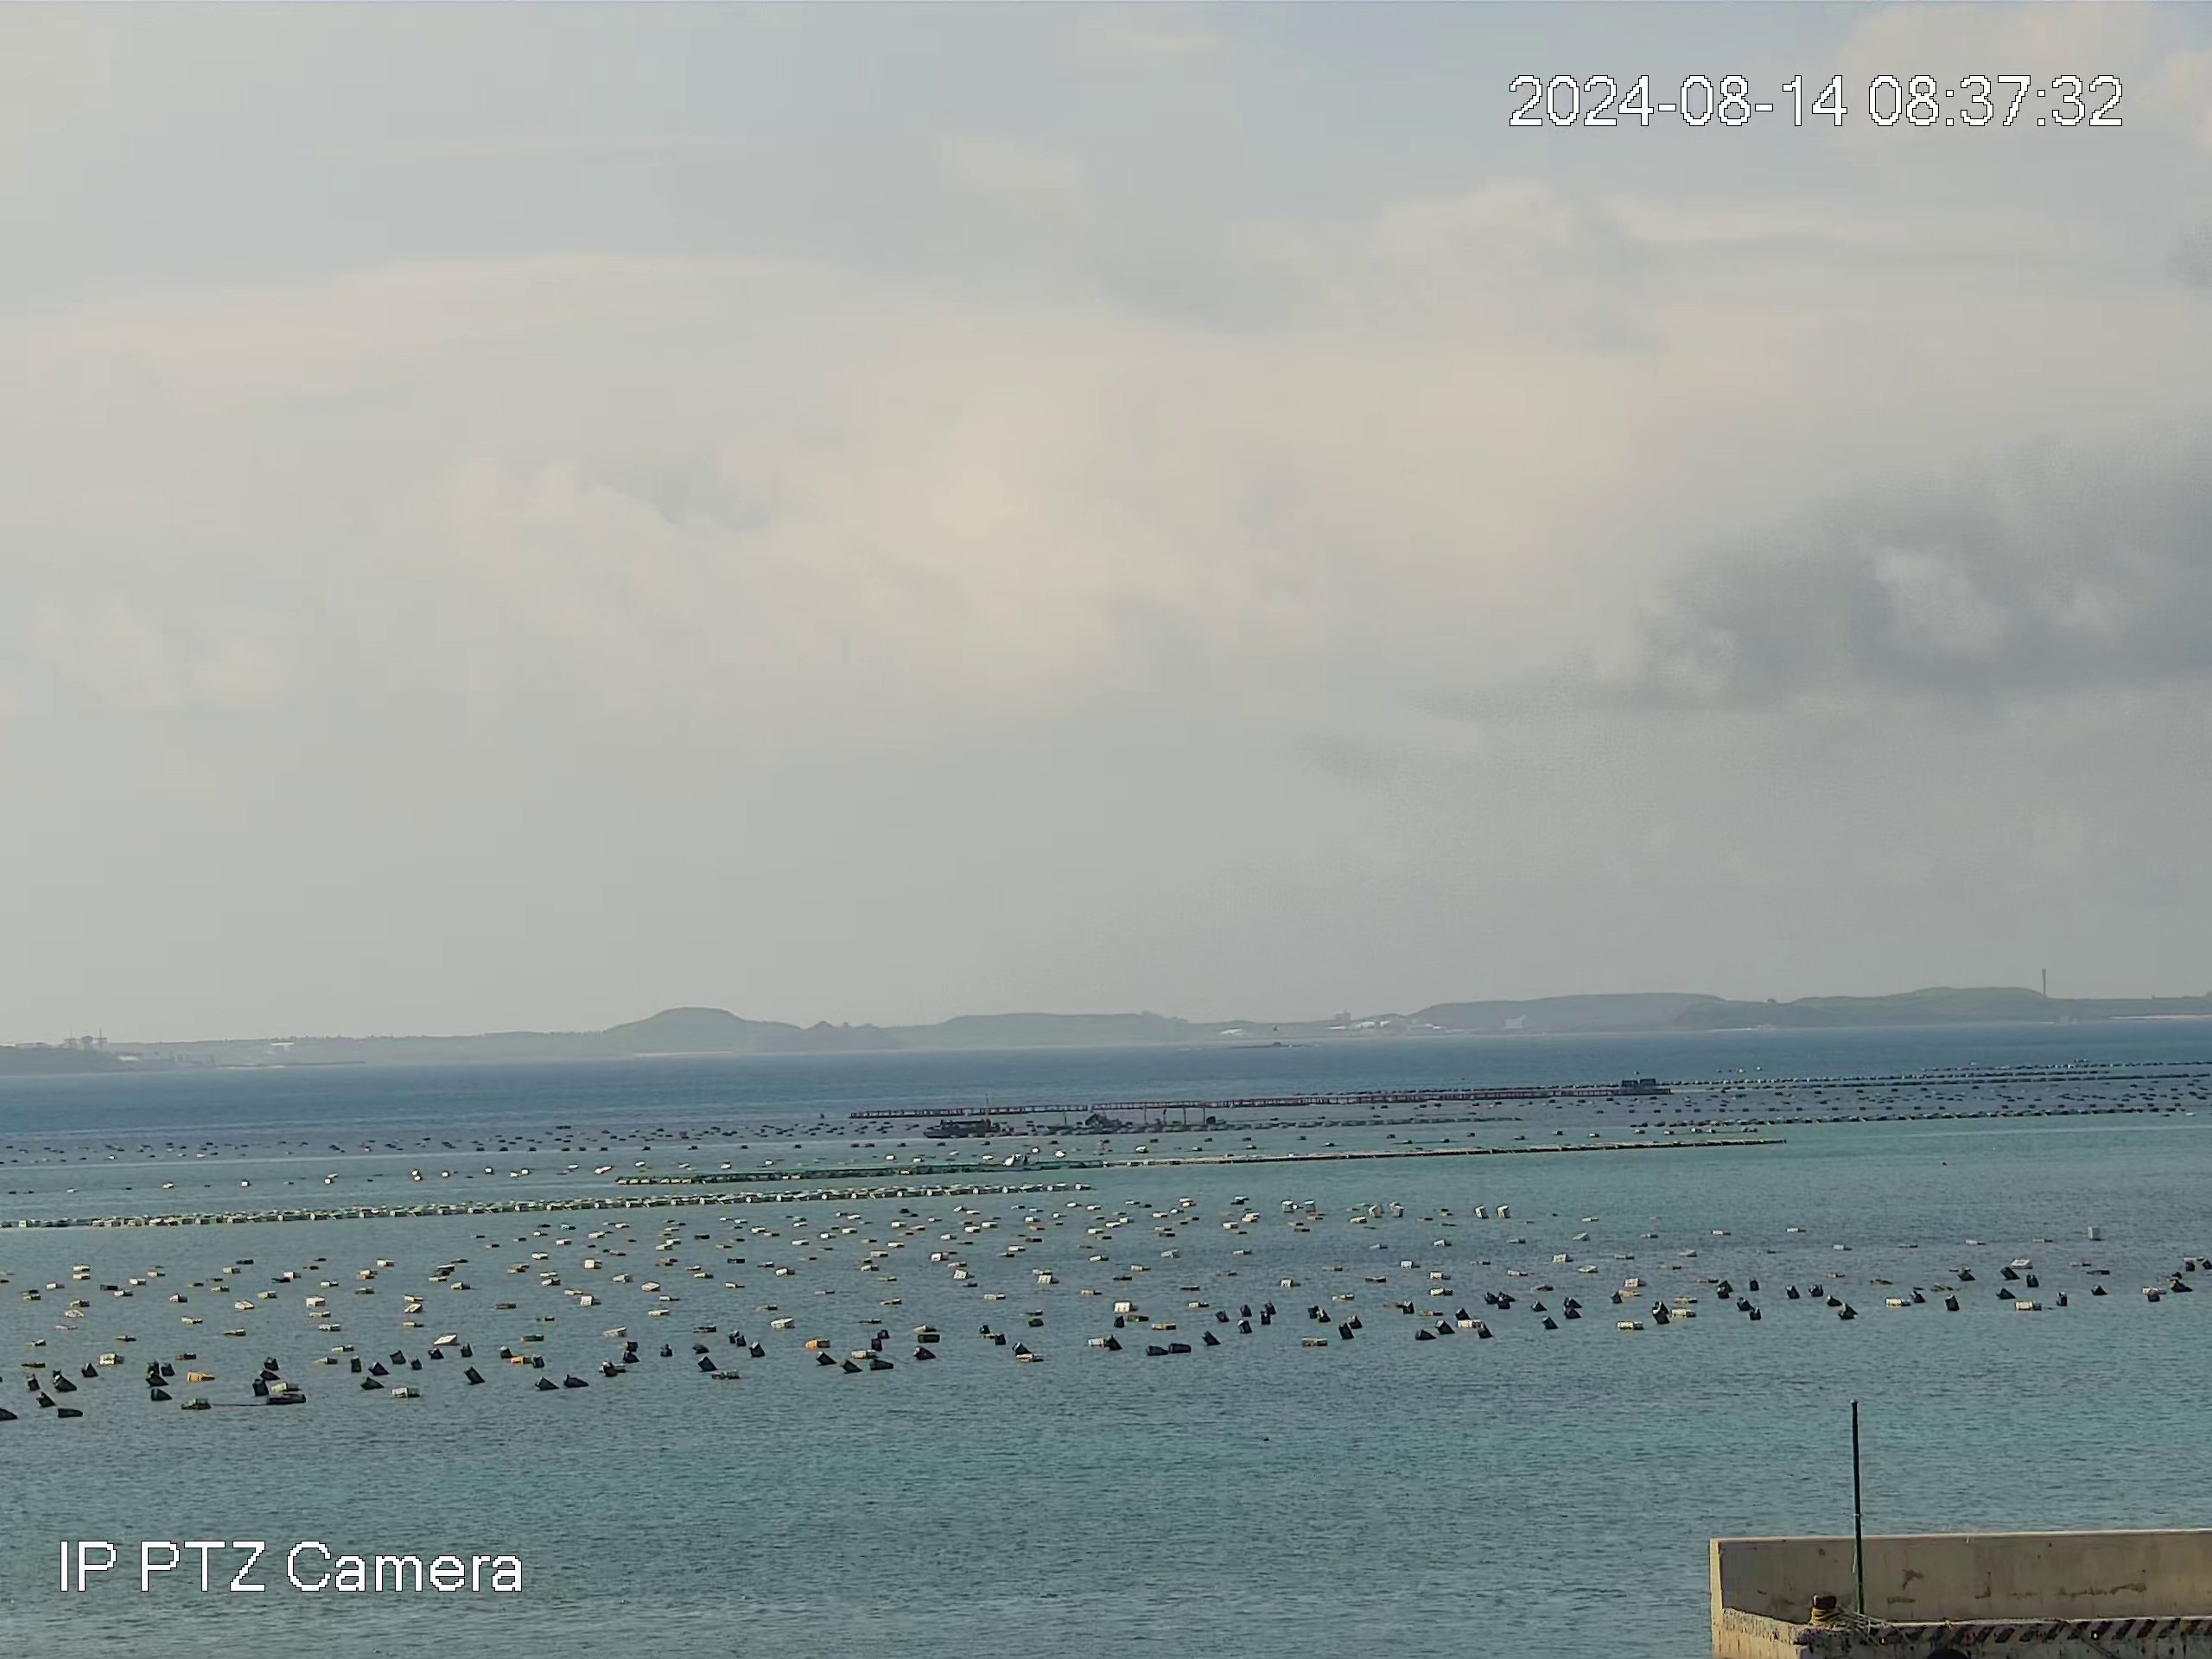boat: (923, 1121, 996, 1141)
